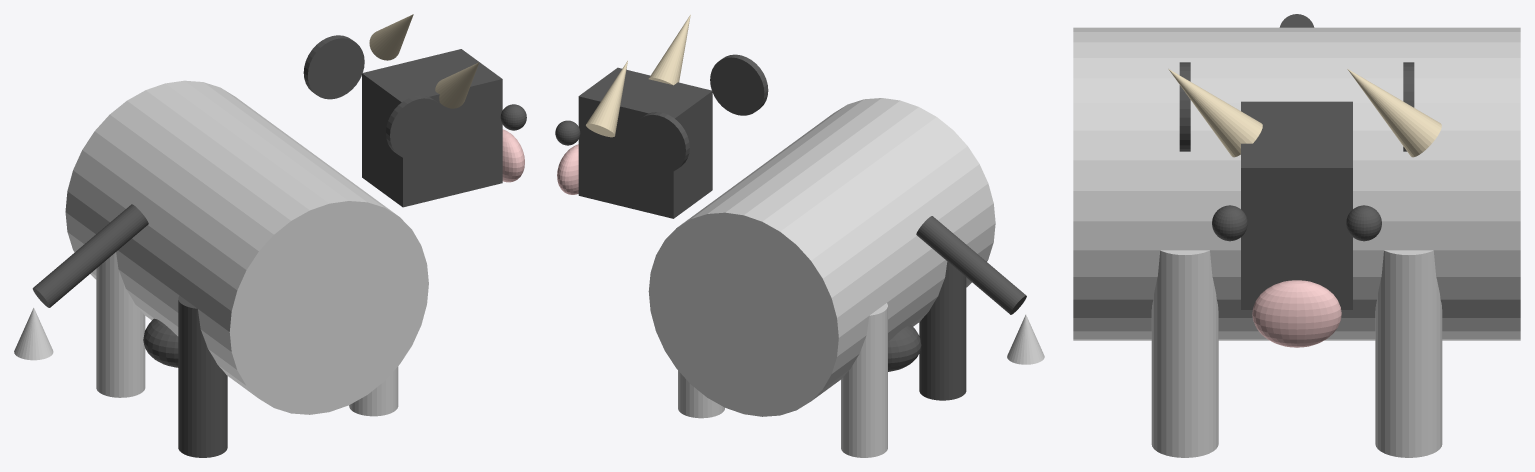
The model's file is cow.glb.
3 views of the same model, side by side, from view 1: azimuth 30°, elevation 25°; view 2: azimuth 150°, elevation 25°; view 3: azimuth 270°, elevation 25° (orthographic). The views are drawn at different scales.
Parts seen in each view (by area): view 1: cow_body, cow_head, cow_leg_3, cow_leg_2, cow_tail_base, cow_ear_right, cow_ear_left, cow_leg_1, cow_udder, cow_tail_tip, cow_horn_left, cow_horn_right (+2 smaller); view 2: cow_body, cow_head, cow_leg_2, cow_leg_3, cow_tail_base, cow_ear_right, cow_ear_left, cow_horn_left, cow_horn_right, cow_leg_0, cow_udder, cow_tail_tip (+2 smaller); view 3: cow_body, cow_head, cow_leg_1, cow_leg_0, cow_nose, cow_horn_left, cow_horn_right, cow_eye_right, cow_eye_left, cow_ear_right, cow_ear_left.
Boxes of the visible parts, left/top/right/bottom form: cow_body: left=65, top=80, right=428, bottom=414; cow_head: left=362, top=49, right=502, bottom=207; cow_leg_3: left=178, top=295, right=227, bottom=457; cow_leg_2: left=96, top=252, right=145, bottom=397; cow_tail_base: left=32, top=204, right=148, bottom=307; cow_ear_right: left=386, top=95, right=446, bottom=159; cow_ear_left: left=303, top=35, right=364, bottom=99; cow_leg_1: left=349, top=366, right=398, bottom=416; cow_udder: left=143, top=318, right=178, bottom=367; cow_tail_tip: left=14, top=307, right=53, bottom=360; cow_horn_left: left=369, top=14, right=413, bottom=60; cow_horn_right: left=435, top=62, right=479, bottom=108; cow_body: left=648, top=98, right=995, bottom=416; cow_head: left=578, top=67, right=712, bottom=218; cow_leg_2: left=841, top=303, right=887, bottom=457; cow_leg_3: left=919, top=261, right=966, bottom=400; cow_tail_base: left=916, top=216, right=1026, bottom=314; cow_ear_right: left=710, top=54, right=768, bottom=115; cow_ear_left: left=631, top=112, right=689, bottom=172; cow_horn_left: left=586, top=60, right=627, bottom=137; cow_horn_right: left=648, top=14, right=690, bottom=85; cow_leg_0: left=678, top=370, right=724, bottom=418; cow_udder: left=888, top=325, right=921, bottom=371; cow_tail_tip: left=1007, top=314, right=1044, bottom=364; cow_body: left=1073, top=27, right=1520, bottom=340; cow_head: left=1241, top=101, right=1352, bottom=309; cow_leg_1: left=1151, top=250, right=1218, bottom=457; cow_leg_0: left=1375, top=250, right=1442, bottom=457; cow_nose: left=1252, top=280, right=1341, bottom=347; cow_horn_left: left=1347, top=69, right=1441, bottom=157; cow_horn_right: left=1168, top=69, right=1262, bottom=157; cow_eye_right: left=1212, top=205, right=1247, bottom=241; cow_eye_left: left=1346, top=205, right=1381, bottom=241; cow_ear_right: left=1179, top=62, right=1190, bottom=151; cow_ear_left: left=1403, top=62, right=1414, bottom=151.
Size of the model in its own units: 3.52 by 2.18 by 2.
